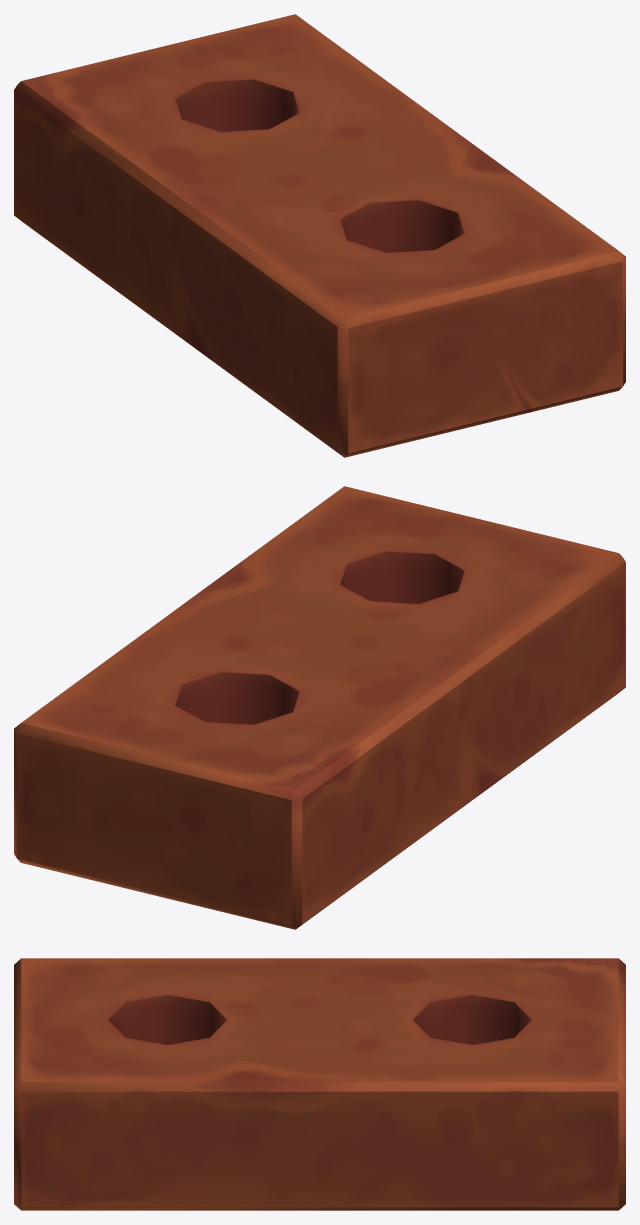
The model's file is brick.fbx.
3 views of the same model, one above another, from view 1: azimuth 30°, elevation 25°; view 2: azimuth 150°, elevation 25°; view 3: azimuth 270°, elevation 25° (orthographic). The views are drawn at different scales.
Visible parts, largest first — view 1: Brick; view 2: Brick; view 3: Brick.
Boxes of the visible parts, box(x1,y1,x2,y2) form: Brick: box(14, 14, 625, 457); Brick: box(14, 486, 625, 929); Brick: box(14, 958, 625, 1210).
Bounding box in the file's own units: 200 × 92.61 × 398.
